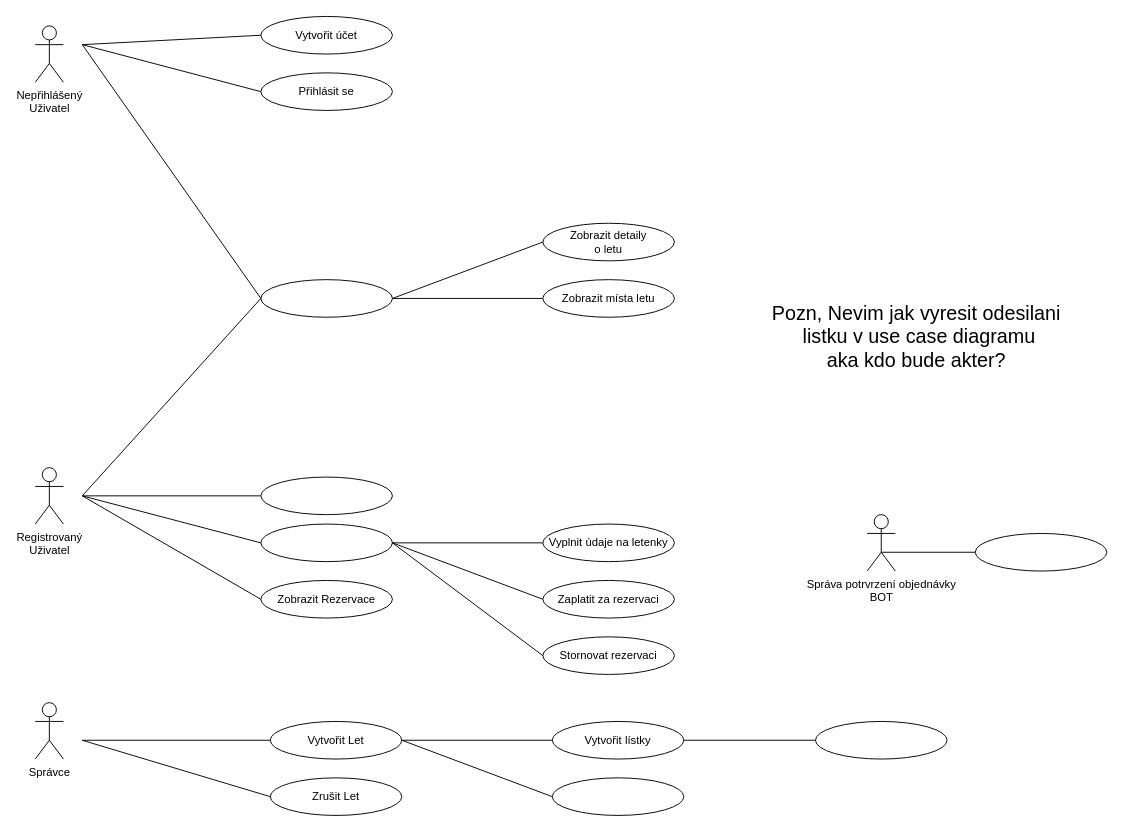
This 1123x832 diagram has some shape labels left out. The box of each missing label's shape, as (x1, y1, x2, y2) in pixels:
Odeslat Upozornění: (974, 533, 1107, 571)
Odhlásit Se: (260, 476, 392, 515)
Upravit cenu: (815, 721, 947, 759)
Upravit údaje: (551, 777, 684, 815)
Vyhledat Spoje: (260, 279, 392, 317)
Vytvořit Rezervaci: (260, 523, 392, 562)
